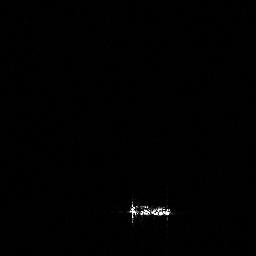ship: (126, 198, 173, 225)
